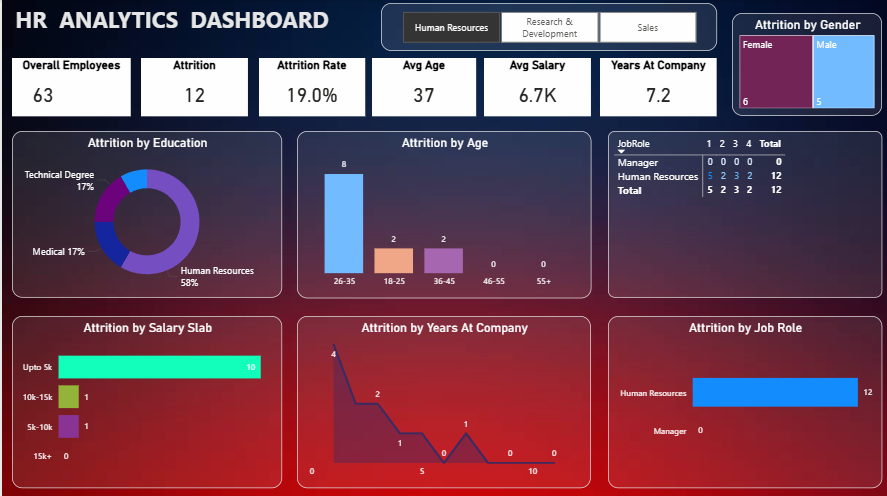

The dashboard page shown, as its layout file describes it:
{"tool":"powerbi","page":{"name":"Page 1","canvas":[1280,720],"ordinal":0},"visuals":[{"type":"cardVisual","title":"Overall Employees","fields":{"Data":["CountNonNull(HR_Analytics.EmpID)"]},"box":[14.4,83.5,171.4,83.5],"z":0},{"type":"cardVisual","title":"Attrition","fields":{"Data":["Sum(HR_Analytics.AttritionCount)"]},"box":[200.2,83.5,154.1,83.5],"z":1000},{"type":"cardVisual","title":"Attrition Rate","fields":{"Data":["HR_Analytics.AttritionRate"]},"box":[370.1,83.5,152.6,83.5],"z":2000},{"type":"cardVisual","title":"Avg Age","fields":{"Data":["Avg(HR_Analytics.Age)"]},"box":[532.8,83.5,149.8,83.5],"z":3000},{"type":"cardVisual","title":"Avg Salary","fields":{"Data":["Avg(HR_Analytics.MonthlyIncome)"]},"box":[694.1,83.5,154.1,83.5],"z":4000},{"type":"cardVisual","title":"Years At Company","fields":{"Data":["Avg(HR_Analytics.YearsAtCompany)"]},"box":[861.1,83.5,168.5,83.5],"z":5000},{"type":"donutChart","title":" Attrition by Education","fields":{"Category":["HR_Analytics.EducationField"],"Y":["Sum(HR_Analytics.AttritionCount)"]},"box":[14.4,188.6,388.8,240.5],"z":6000},{"type":"areaChart","title":" Attrition by Years At Company","fields":{"Category":["HR_Analytics.YearsAtCompany"],"Y":["Sum(HR_Analytics.AttritionCount)"]},"box":[424.8,455,423.4,247.7],"z":7000},{"type":"pivotTable","fields":{"Rows":["HR_Analytics.JobRole"],"Columns":["HR_Analytics.JobSatisfaction"],"Values":["Sum(HR_Analytics.AttritionCount)"]},"box":[872.6,188.6,394.6,240.5],"z":8000},{"type":"barChart","title":" Attrition by Salary Slab","fields":{"Category":["HR_Analytics.SalarySlab"],"Y":["Sum(HR_Analytics.AttritionCount)"]},"box":[14.4,455,388.8,247.7],"z":9000},{"type":"barChart","title":" Attrition by Job Role","fields":{"Y":["Sum(HR_Analytics.AttritionCount)"],"Category":["HR_Analytics.JobRole"]},"box":[872.6,455,394.6,247.7],"z":10000},{"type":"columnChart","title":" Attrition by Age","fields":{"Category":["HR_Analytics.AgeGroup"],"Y":["Sum(HR_Analytics.AttritionCount)"]},"box":[424.3,188.3,424.3,240.7],"z":11000},{"type":"treemap","title":" Attrition by Gender","fields":{"Group":["HR_Analytics.Gender"],"Values":["Sum(HR_Analytics.AttritionCount)"]},"box":[1051.2,18.7,216,148.3],"z":12000},{"type":"slicer","fields":{"Values":["HR_Analytics.Department"]},"box":[545.8,4.3,483.8,69.1],"z":13000},{"type":"textbox","box":[14.3,0,498.2,73.9],"z":14000}]}

Visuals, with their boxes in screenshot pixels (x1, y1, x2, y2), scaled from the page's 1280x720 canvas onto the 887x496 screenshot:
"Overall Employees" cardVisual: [10,58,129,115]
"Attrition" cardVisual: [139,58,246,115]
"Attrition Rate" cardVisual: [256,58,362,115]
"Avg Age" cardVisual: [369,58,473,115]
"Avg Salary" cardVisual: [481,58,588,115]
"Years At Company" cardVisual: [597,58,713,115]
" Attrition by Education" donutChart: [10,130,279,296]
" Attrition by Years At Company" areaChart: [294,313,588,484]
pivotTable - HR_Analytics.JobRole x HR_Analytics.JobSatisfaction: [605,130,878,296]
" Attrition by Salary Slab" barChart: [10,313,279,484]
" Attrition by Job Role" barChart: [605,313,878,484]
" Attrition by Age" columnChart: [294,130,588,296]
" Attrition by Gender" treemap: [728,13,878,115]
slicer - HR_Analytics.Department: [378,3,713,51]
textbox: [10,0,355,51]
